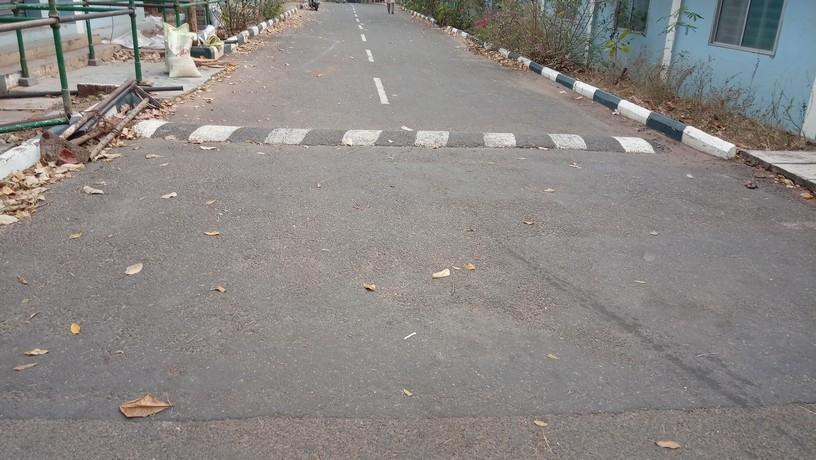speedbreaker: (126, 111, 658, 159)
